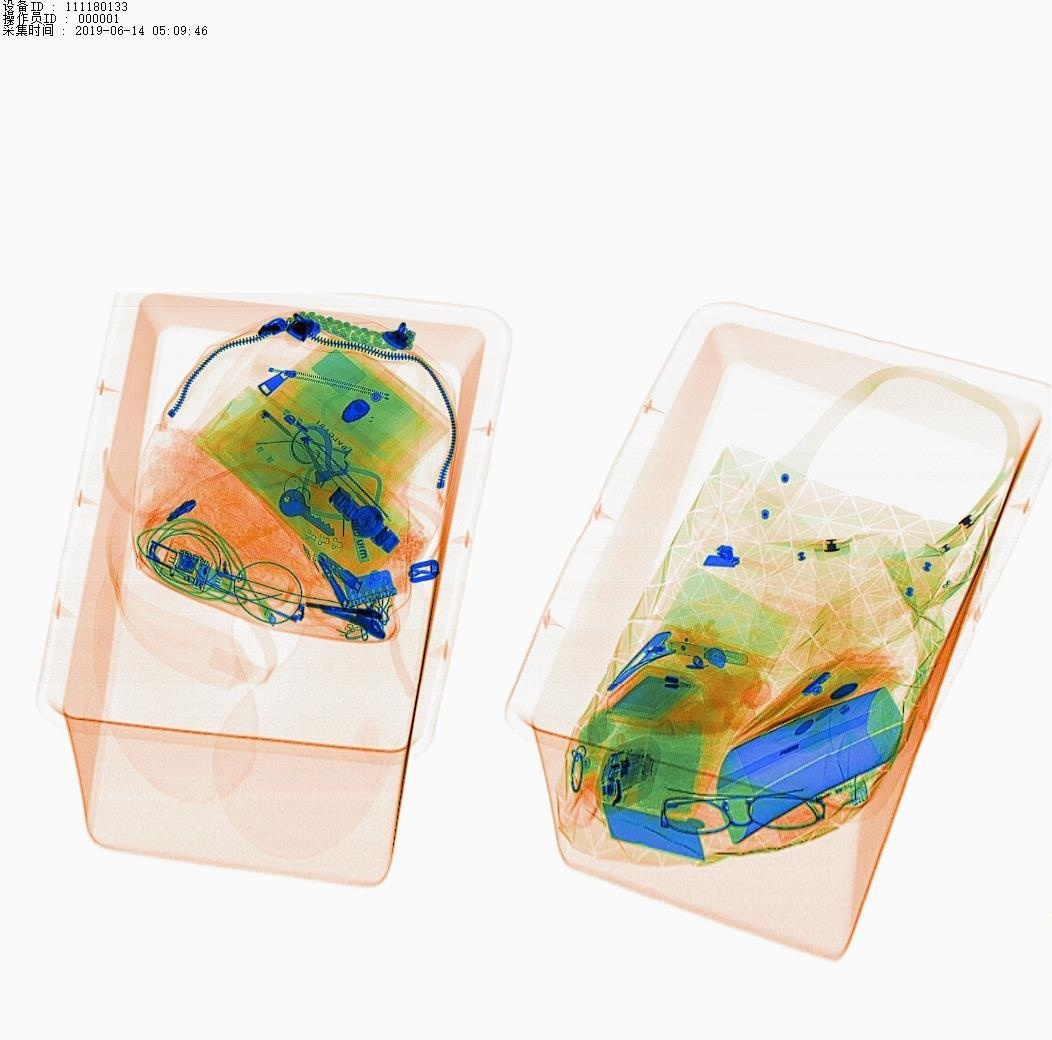NonmetallicFire: (773, 770, 881, 836)
